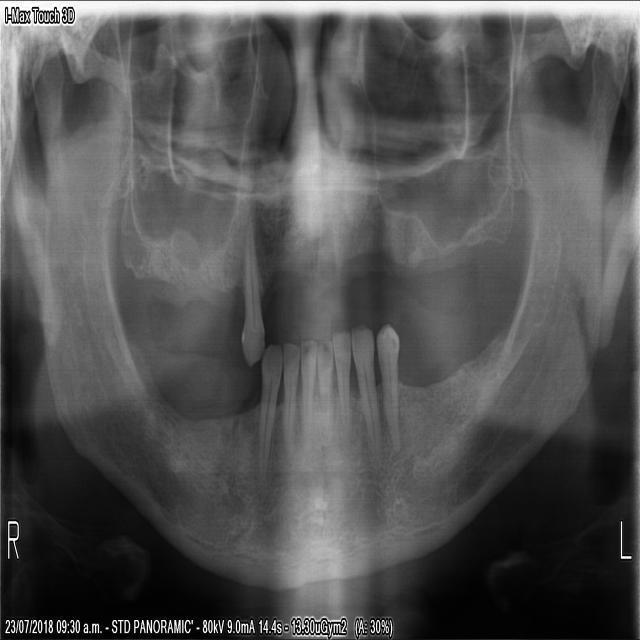LCD: (351, 324, 381, 454)
LID: (331, 325, 351, 432), (316, 333, 334, 412)
LPMD: (376, 315, 402, 450)
RCD: (256, 342, 281, 473)
RID: (281, 337, 299, 452), (300, 335, 316, 447)
RPMU: (240, 218, 266, 368)
